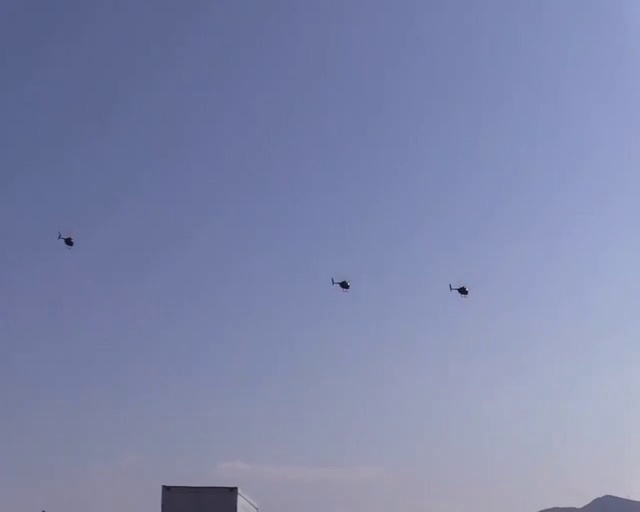HELICOPTER: (57, 231, 73, 248)
